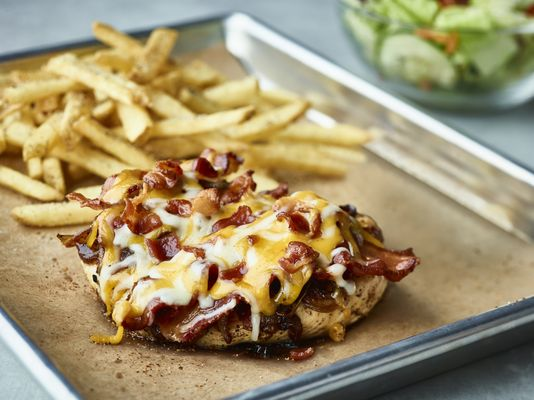sandwich: (222, 11, 534, 255)
sushi: (338, 0, 534, 115)
